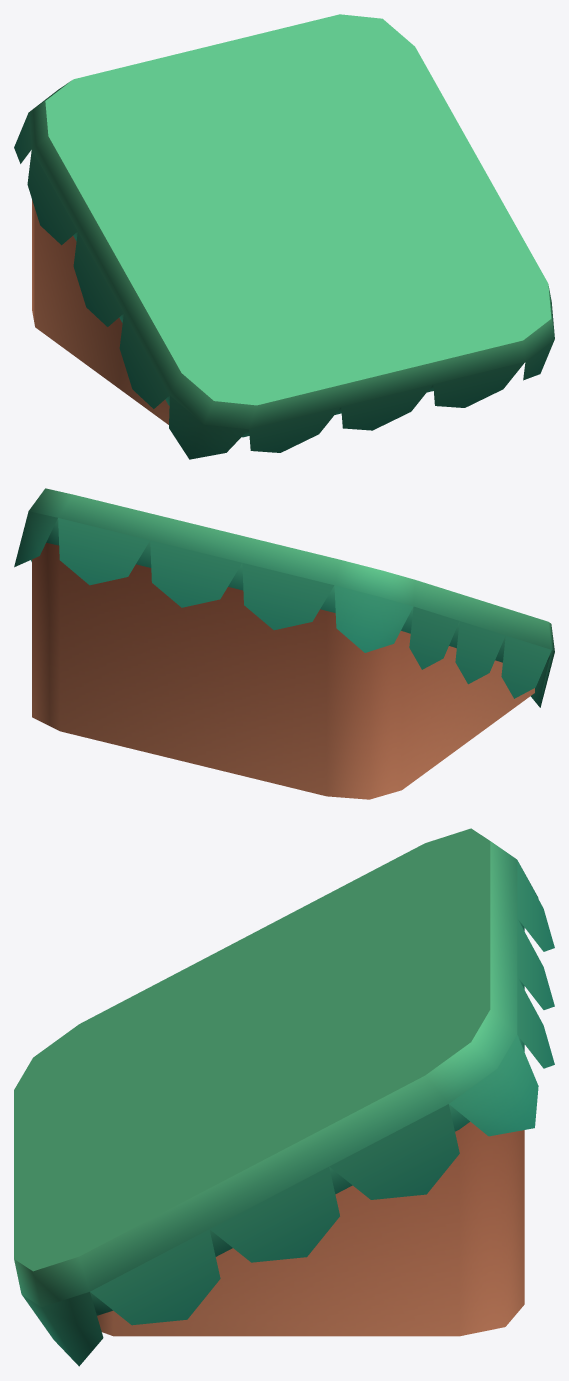
Rendered from block-grass-overhang-large-slope-steep.glb.
The picture shows the model from 3 angles, top to bottom: view 1: azimuth 30°, elevation 25°; view 2: azimuth 150°, elevation 25°; view 3: azimuth 270°, elevation 25°; orthographic projection. The views are drawn at different scales.
Visible parts, largest first — view 1: block-grass-overhang-large-slope-steep; view 2: block-grass-overhang-large-slope-steep; view 3: block-grass-overhang-large-slope-steep.
Boxes of the visible parts, left/top/right/bottom form: block-grass-overhang-large-slope-steep: left=14, top=14, right=554, bottom=459; block-grass-overhang-large-slope-steep: left=14, top=488, right=554, bottom=799; block-grass-overhang-large-slope-steep: left=14, top=828, right=554, bottom=1366.
Bounding box in the file's own units: 2.08 × 1.37 × 1.97.
1 material, 1 textured.
